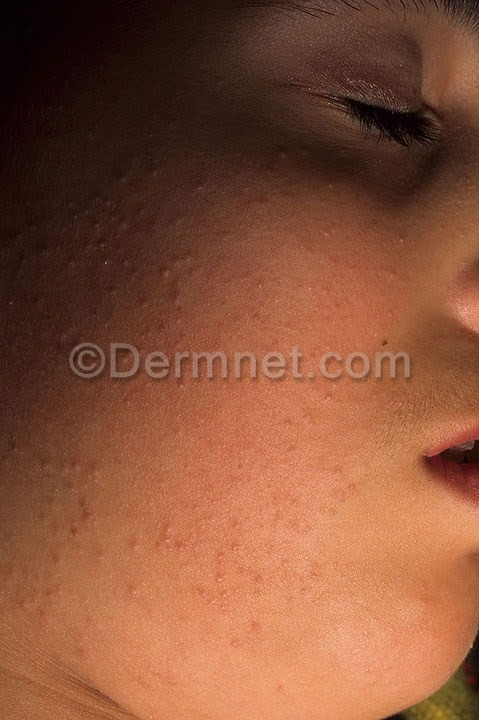Eczema: (10, 152, 387, 696)
